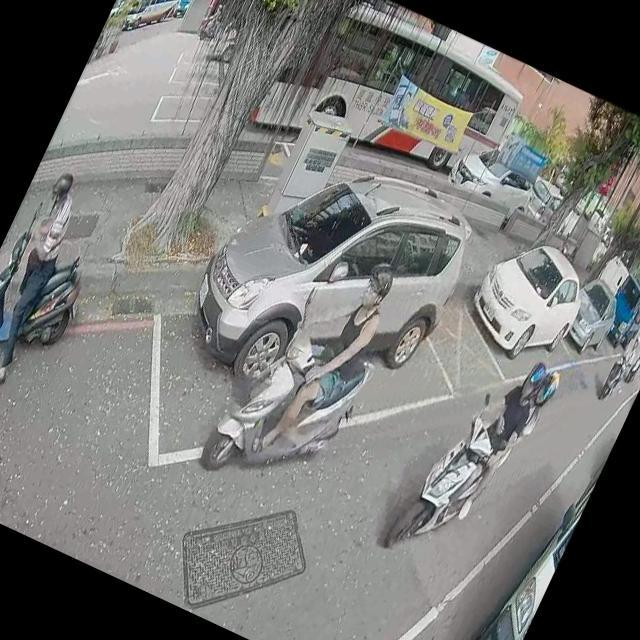person: (237, 236, 409, 481), (425, 340, 554, 538), (0, 162, 99, 394), (450, 354, 565, 527), (603, 332, 640, 399), (0, 458, 18, 523), (201, 0, 226, 33)
